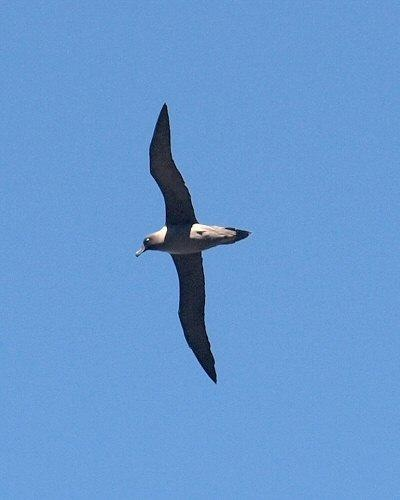bird: (127, 103, 251, 386)
